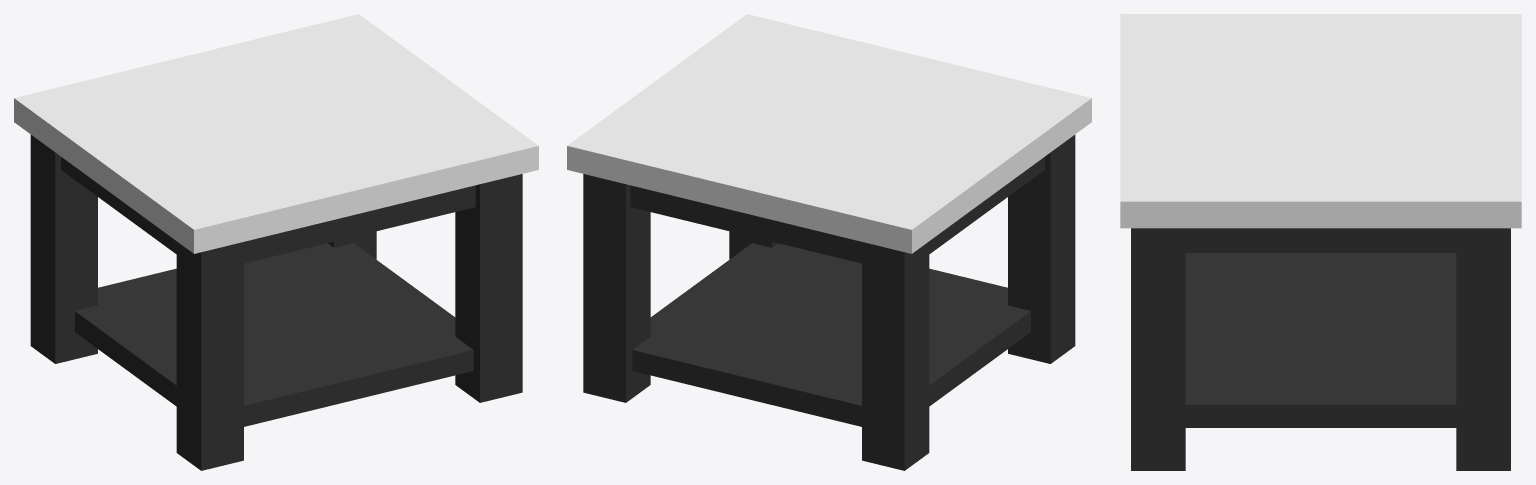
The model's file is Table_6A.fbx.
3 views of the same model, side by side, from view 1: azimuth 30°, elevation 25°; view 2: azimuth 150°, elevation 25°; view 3: azimuth 270°, elevation 25° (orthographic). The views are drawn at different scales.
Visible parts, largest first — view 1: polySurface1517; view 2: polySurface1517; view 3: polySurface1517.
Part boxes in pixels (<box>): polySurface1517: <box>14,14,538,470</box>; polySurface1517: <box>567,14,1091,470</box>; polySurface1517: <box>1120,14,1521,470</box>.
Bounding box in the file's own units: 1.05 × 0.72 × 0.95.
Materials: 1 (1 with a texture image).
